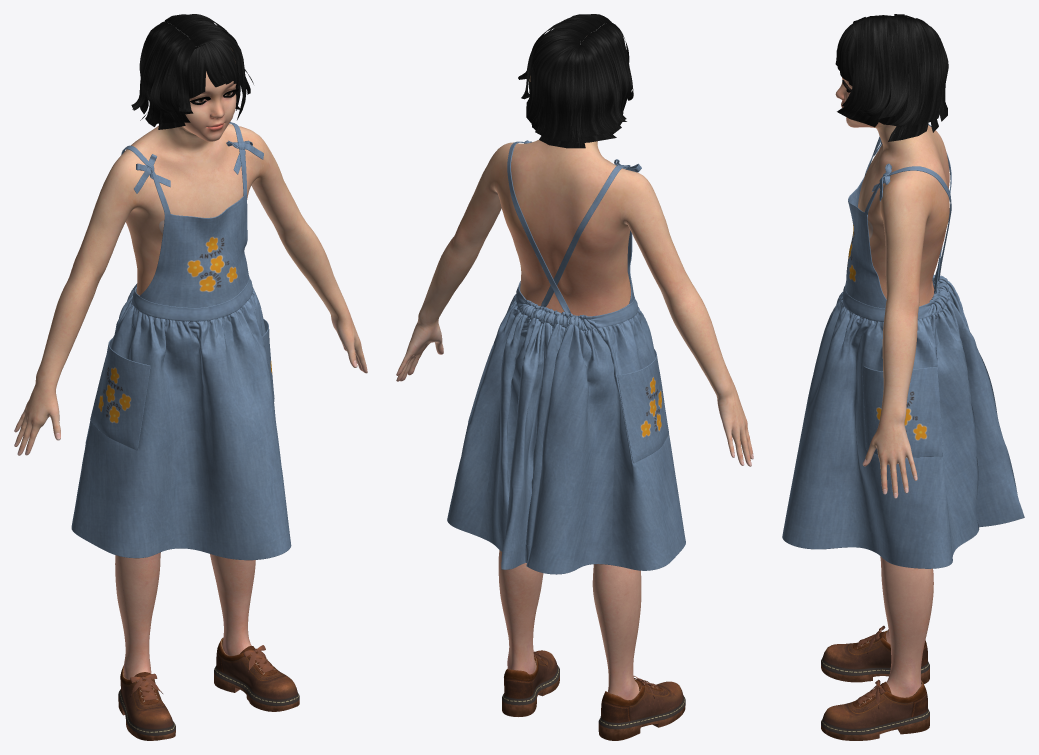
Rendered from outfit4.glb.
3 renders of one model, left to right at view 1: azimuth 30°, elevation 25°; view 2: azimuth 150°, elevation 25°; view 3: azimuth 270°, elevation 25°, orthographic.
Parts seen in each view (by area): view 1: Object_20, Object_2, Object_5, Object_31, Object_7, Object_22, Object_25, Object_4, Object_21; view 2: Object_2, Object_23, Object_20, Object_5, Object_7, Object_25, Object_24, Object_22, Object_29, Object_30, Object_28, Object_21; view 3: Object_2, Object_20, Object_23, Object_5, Object_7, Object_10, Object_22, Object_31, Object_24, Object_21, Object_28, Object_29.
Part boxes in pixels (left/top/right/bottom): Object_20: left=74, top=288, right=288, bottom=542; Object_2: left=14, top=124, right=367, bottom=679; Object_5: left=131, top=14, right=253, bottom=129; Object_31: left=140, top=195, right=248, bottom=307; Object_7: left=118, top=638, right=299, bottom=740; Object_22: left=71, top=510, right=291, bottom=560; Object_25: left=90, top=338, right=150, bottom=450; Object_4: left=183, top=47, right=236, bottom=141; Object_21: left=132, top=276, right=252, bottom=321; Object_2: left=396, top=140, right=753, bottom=700; Object_23: left=482, top=308, right=615, bottom=555; Object_20: left=451, top=294, right=682, bottom=551; Object_5: left=518, top=14, right=633, bottom=148; Object_7: left=502, top=650, right=685, bottom=740; Object_25: left=618, top=349, right=668, bottom=463; Object_24: left=479, top=518, right=611, bottom=574; Object_22: left=447, top=502, right=685, bottom=570; Object_29: left=517, top=300, right=599, bottom=331; Object_30: left=541, top=165, right=629, bottom=307; Object_28: left=507, top=141, right=570, bottom=314; Object_21: left=516, top=281, right=638, bottom=328; Object_2: left=858, top=124, right=949, bottom=697; Object_20: left=785, top=292, right=951, bottom=549; Object_23: left=929, top=281, right=1018, bottom=533; Object_5: left=835, top=14, right=948, bottom=141; Object_7: left=821, top=625, right=929, bottom=740; Object_10: left=862, top=366, right=942, bottom=457; Object_22: left=782, top=519, right=953, bottom=568; Object_31: left=845, top=177, right=886, bottom=308; Object_24: left=950, top=501, right=1024, bottom=552; Object_21: left=842, top=284, right=929, bottom=322; Object_28: left=864, top=166, right=951, bottom=281; Object_29: left=928, top=274, right=948, bottom=316.
Size of the model in its own units: 715 by 1344 by 432.
30 materials, 29 textured.
